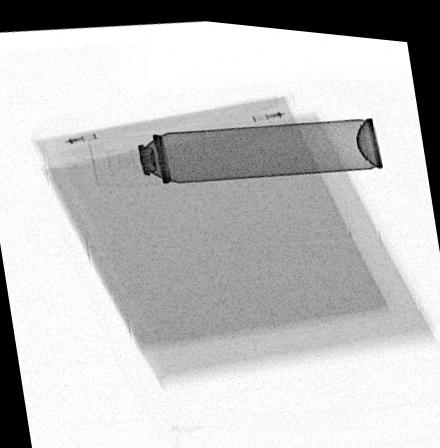Sprayer: (84, 107, 387, 188)
